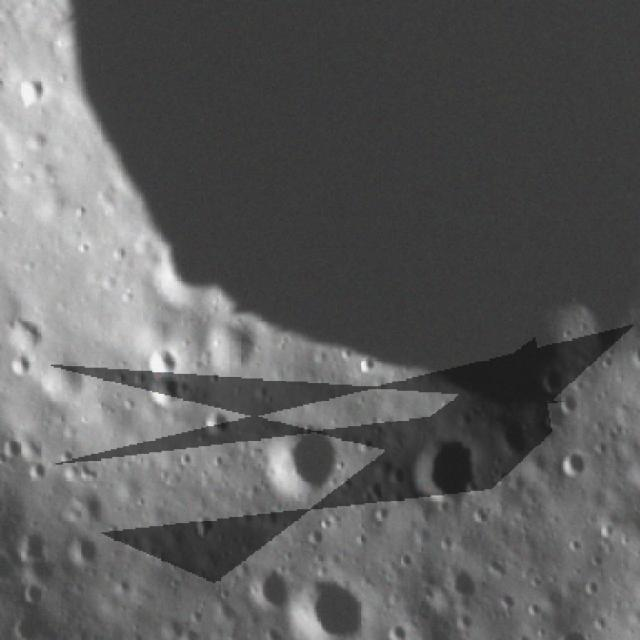crater: (63, 0, 640, 402), (261, 417, 350, 500), (294, 564, 368, 640), (414, 434, 483, 508), (246, 556, 296, 613), (5, 311, 48, 357), (142, 339, 184, 381), (144, 374, 190, 411), (62, 530, 100, 568), (18, 72, 50, 113), (200, 405, 238, 433), (15, 609, 48, 640), (561, 446, 588, 482), (0, 433, 26, 470), (192, 505, 219, 540), (0, 476, 14, 539), (551, 624, 594, 640), (631, 336, 640, 378), (521, 638, 556, 640)
